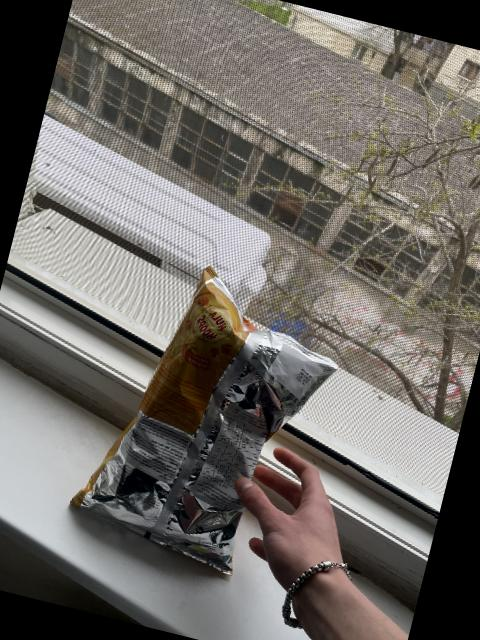Chio Hula Hoops Cheese 70g: (66, 263, 352, 588)
